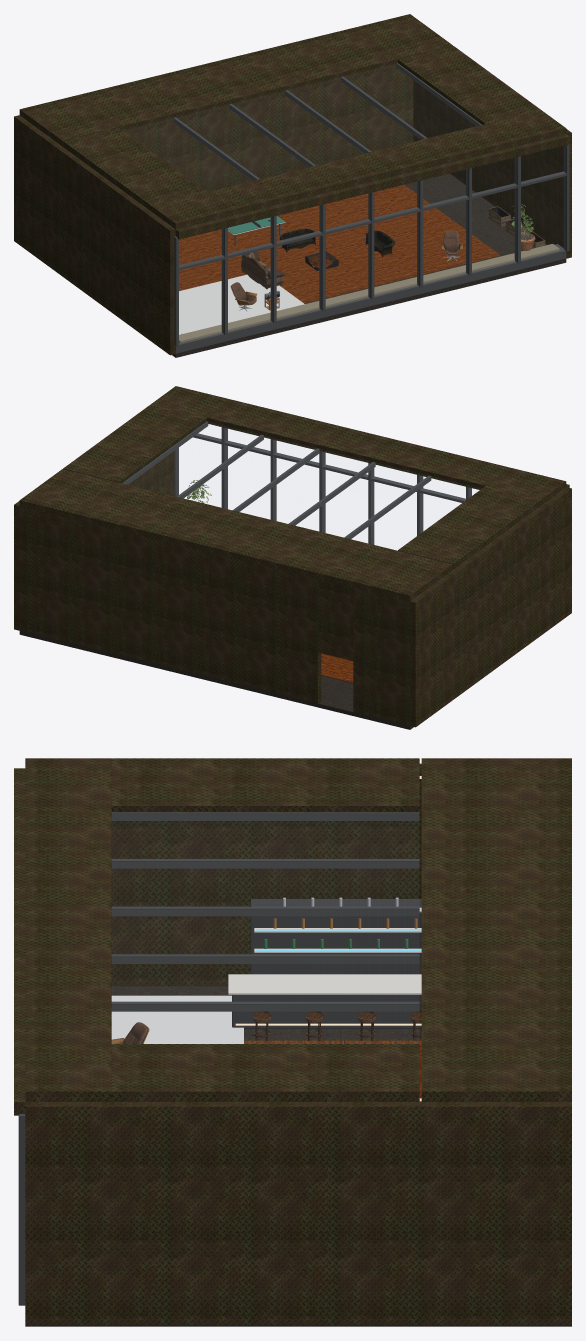
The model's file is lobby.glb.
3 renders of one model, top to bottom at view 1: azimuth 30°, elevation 25°; view 2: azimuth 150°, elevation 25°; view 3: azimuth 270°, elevation 25°, orthographic. The views are drawn at different scales.
Visible parts, largest first — view 1: lg_wW, lg_ceil_N, lg_wN_b, lg_floor_w, lg_ceil_S, lg_wE, lg_ceil_W, lg_ceil_E, lg_floor_m, lg_wS_top, lg_sill, lg_rug (+21 smaller); view 2: lg_wN_b, lg_wW, lg_ceil_N, lg_ceil_S, lg_wN_a, lg_ceil_W, lg_ceil_E, lg_floor_m, lg_wN_t, lg_wE, lg_mullH, lg_floor_w (+9 smaller); view 3: lg_wE, lg_ceil_N, lg_wW, lg_ceil_S, lg_ceil_E, lg_ceil_W, lg_backbar, lg_floor_m, lg_rug, lg_wS_top, lg_bartop, lg_bar (+7 smaller).
Part boxes in pixels (left/top/right/bottom): lg_wW: left=14, top=115, right=175, bottom=355; lg_ceil_N: left=19, top=14, right=452, bottom=146; lg_wN_b: left=124, top=65, right=413, bottom=191; lg_floor_w: left=179, top=185, right=500, bottom=303; lg_ceil_S: left=151, top=110, right=566, bottom=229; lg_wE: left=413, top=80, right=571, bottom=258; lg_ceil_W: left=63, top=127, right=206, bottom=210; lg_ceil_E: left=398, top=46, right=541, bottom=124; lg_floor_m: left=172, top=173, right=566, bottom=357; lg_wS_top: left=175, top=134, right=569, bottom=239; lg_sill: left=175, top=244, right=566, bottom=353; lg_rug: left=179, top=274, right=304, bottom=334; lg_wN_b: left=19, top=506, right=321, bottom=703; lg_wW: left=410, top=487, right=571, bottom=727; lg_ceil_N: left=19, top=469, right=452, bottom=601; lg_ceil_S: left=151, top=386, right=566, bottom=504; lg_wN_a: left=353, top=587, right=410, bottom=725; lg_ceil_W: left=398, top=486, right=541, bottom=569; lg_ceil_E: left=63, top=404, right=206, bottom=483; lg_floor_m: left=19, top=631, right=413, bottom=729; lg_wN_t: left=318, top=579, right=353, bottom=660; lg_wE: left=14, top=451, right=174, bottom=630; lg_mullH: left=193, top=433, right=465, bottom=502; lg_floor_w: left=321, top=653, right=353, bottom=683; lg_wE: left=25, top=1102, right=571, bottom=1324; lg_ceil_N: left=421, top=758, right=571, bottom=1101; lg_wW: left=111, top=763, right=421, bottom=986; lg_ceil_S: left=25, top=758, right=111, bottom=1101; lg_ceil_E: left=111, top=1044, right=419, bottom=1101; lg_ceil_W: left=111, top=758, right=419, bottom=812; lg_backbar: left=250, top=899, right=421, bottom=974; lg_floor_m: left=25, top=986, right=571, bottom=1326; lg_rug: left=111, top=995, right=243, bottom=1043; lg_wS_top: left=14, top=768, right=25, bottom=1115; lg_bartop: left=228, top=974, right=421, bottom=994; lg_bar: left=232, top=995, right=421, bottom=1028.
Bounding box in the file's own units: 21.6 × 6.9 × 14.85.
36 materials, 20 textured.
